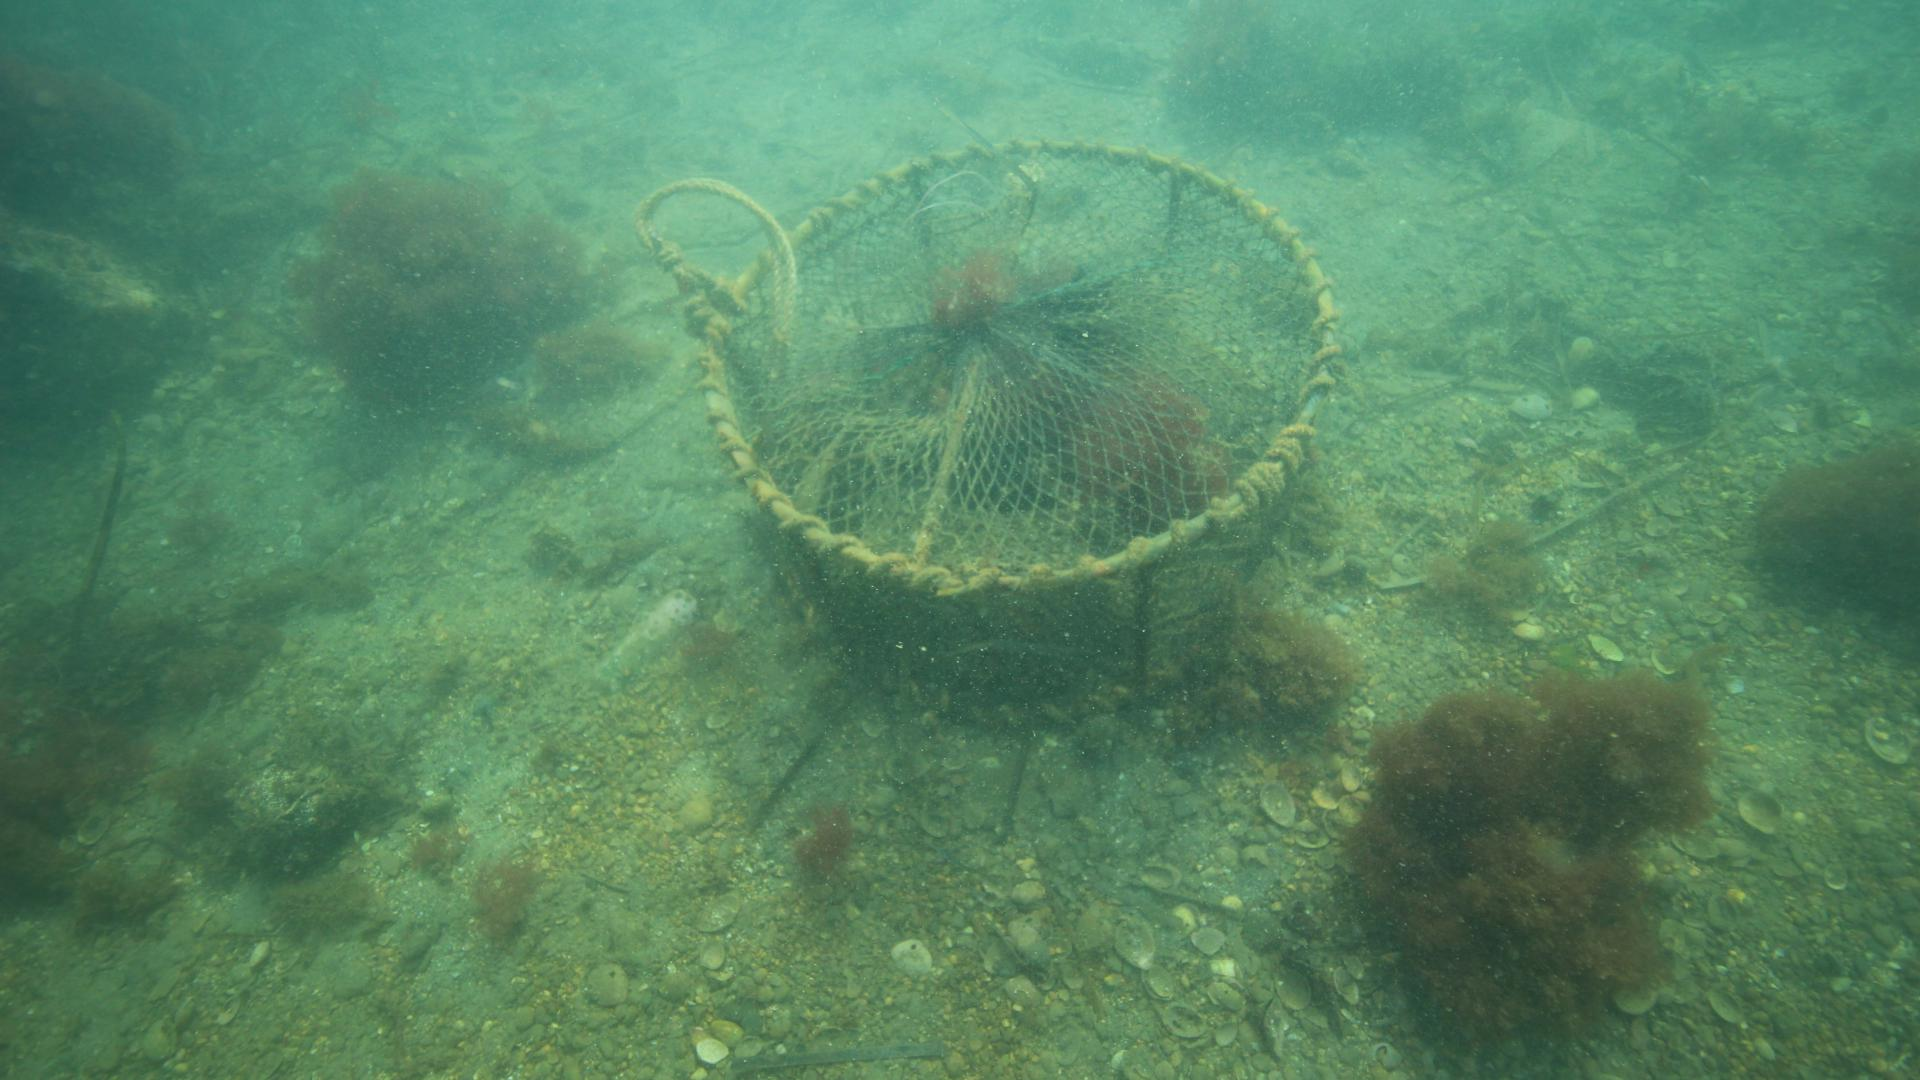bundle of ropes: (634, 173, 799, 343)
circular fish trap: (694, 135, 1337, 732)
